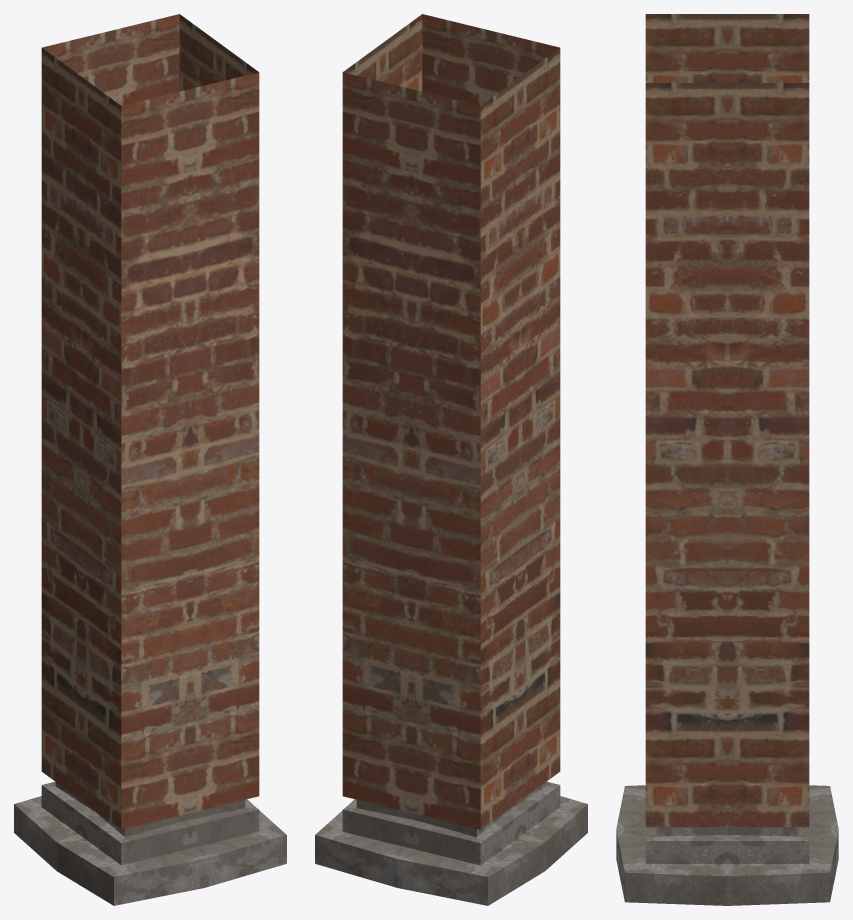
The model's file is Corner_Pillar_4.fbx.
3 renders of one model, left to right at view 1: azimuth 30°, elevation 25°; view 2: azimuth 150°, elevation 25°; view 3: azimuth 270°, elevation 25°, orthographic. The views are drawn at different scales.
Visible parts, largest first — view 1: Corner_Pillar_4.001; view 2: Corner_Pillar_4.001; view 3: Corner_Pillar_4.001.
Part boxes in pixels (x1,y1,x2,y2): Corner_Pillar_4.001: [14, 14, 286, 905]; Corner_Pillar_4.001: [315, 14, 587, 905]; Corner_Pillar_4.001: [616, 14, 838, 905].
Size of the model in its own units: 1.36 by 5.46 by 1.36.
